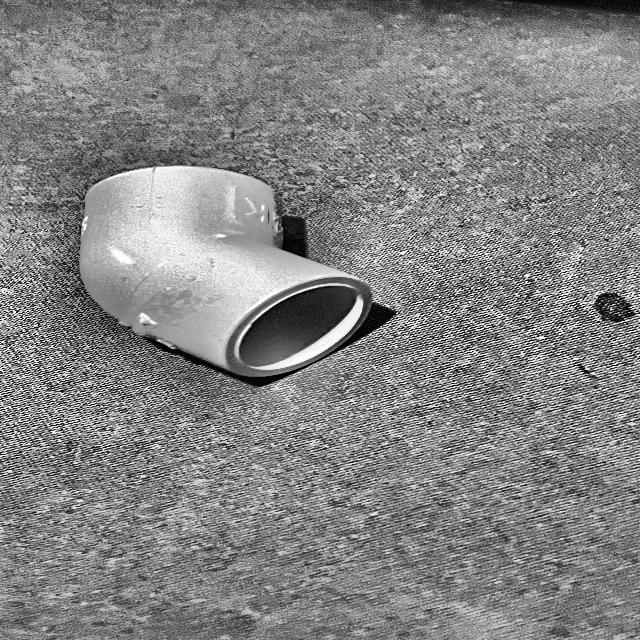ELBOW45: (80, 166, 373, 379)
